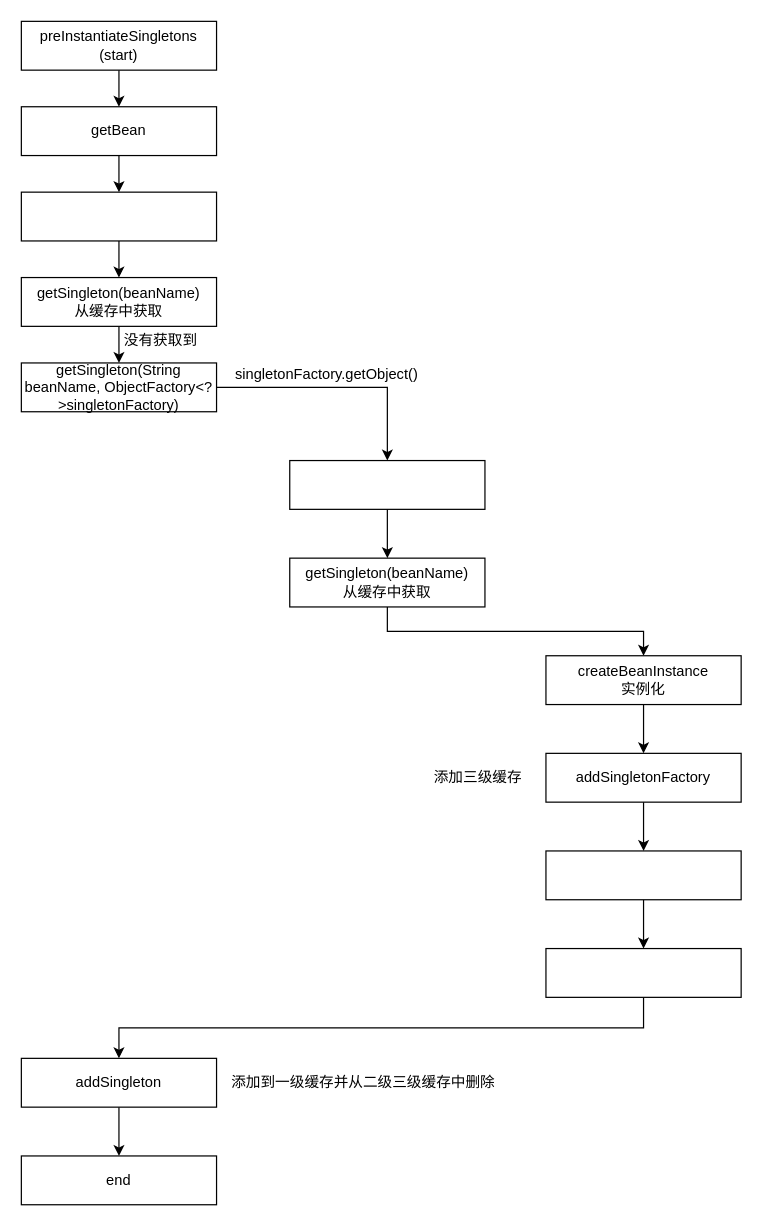
This 763x1226 diagram has some shape labels left out. The centre of each missing label's shape, as x and y in pixels:
createBean (创建Bean): point 387,484
doGetBean: point 118,216
initializeBean 初始化: point 643,972
populateBean 属性赋值: point 643,875
